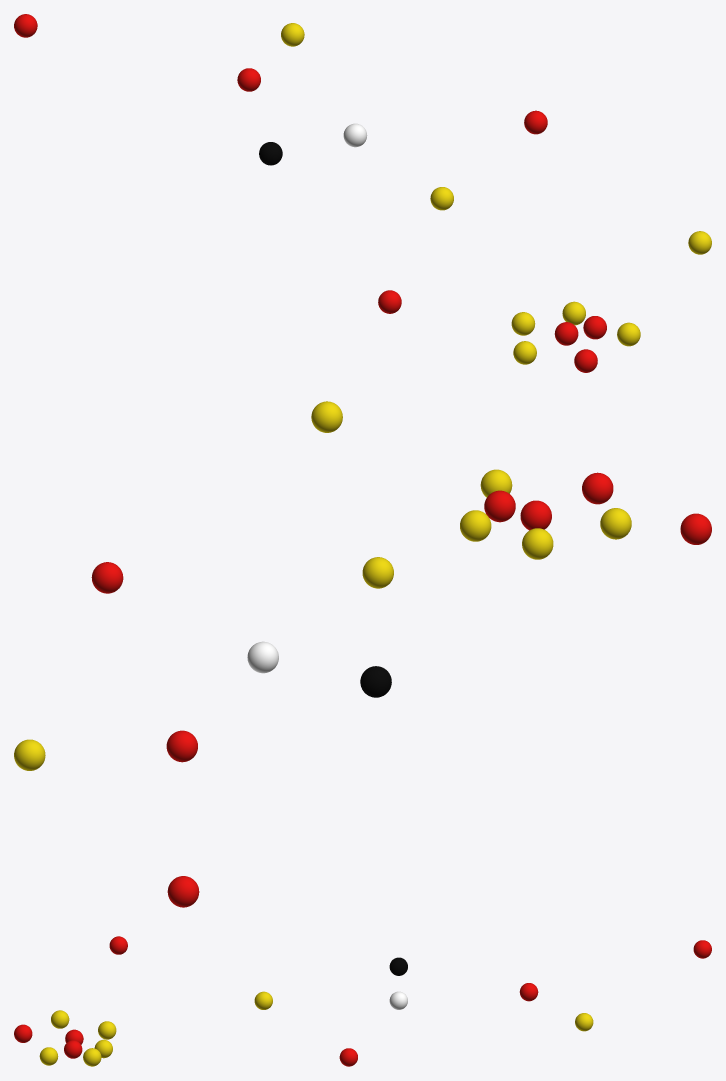
Rendered from PoolBalls_Source.fbx.
The picture shows the model from 3 angles, top to bottom: view 1: azimuth 30°, elevation 25°; view 2: azimuth 150°, elevation 25°; view 3: azimuth 270°, elevation 25°; orthographic projection. The views are drawn at different scales.
Visible parts, largest first — view 1: no part large enough to name; view 2: Ball_01_Source, Ball_13_Source, CueBall_Source, Ball_06_Source, Ball_02_Source, Ball_04_Source, Ball_07_Source, Ball_11_Source, Ball_14_Source, Ball_05_Source, Ball_08_Source, Ball_09_Source (+3 smaller); view 3: Ball_01_Source, Ball_04_Source, Ball_05_Source, Ball_06_Source, Ball_07_Source, Ball_15_Source, Ball_02_Source, Ball_14_Source, CueBall_Source, Ball_08_Source, Ball_09_Source, Ball_10_Source (+3 smaller).
Boxes of the visible parts, x1,y1,x2,y2 form: Ball_01_Source: (360, 666, 391, 697); Ball_13_Source: (484, 490, 515, 522); CueBall_Source: (247, 641, 278, 673); Ball_06_Source: (166, 730, 197, 762); Ball_02_Source: (14, 739, 45, 770); Ball_04_Source: (311, 401, 342, 432); Ball_07_Source: (680, 513, 711, 544); Ball_11_Source: (460, 510, 491, 541); Ball_14_Source: (582, 472, 613, 504); Ball_05_Source: (167, 876, 199, 907); Ball_08_Source: (91, 562, 123, 593); Ball_09_Source: (522, 528, 553, 559); Ball_01_Source: (389, 957, 407, 975); Ball_04_Source: (83, 1048, 101, 1066); Ball_05_Source: (693, 940, 711, 958); Ball_06_Source: (519, 983, 538, 1001); Ball_07_Source: (109, 936, 127, 954); Ball_15_Source: (254, 991, 272, 1009); Ball_02_Source: (575, 1013, 593, 1031); Ball_14_Source: (14, 1024, 32, 1042); CueBall_Source: (389, 991, 407, 1009); Ball_08_Source: (339, 1048, 357, 1066); Ball_09_Source: (98, 1021, 116, 1039); Ball_10_Source: (51, 1010, 69, 1028).
Bounding box in the file's own units: 76.67 × 16.56 × 189.
